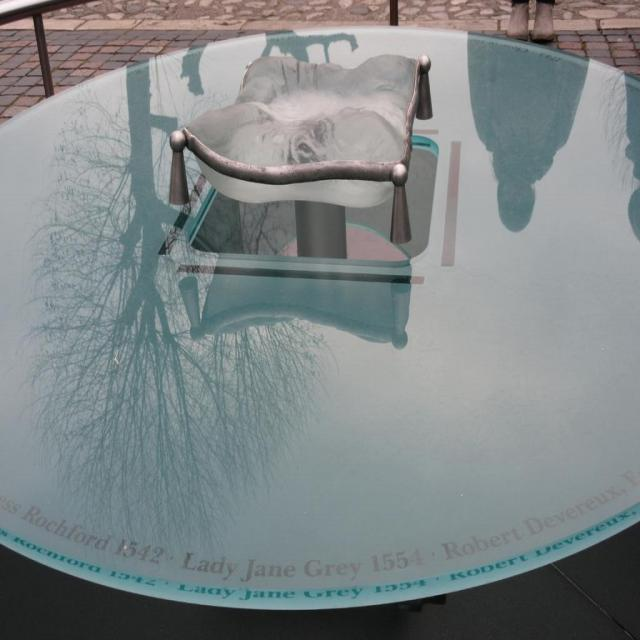Table: (0, 26, 639, 612)
